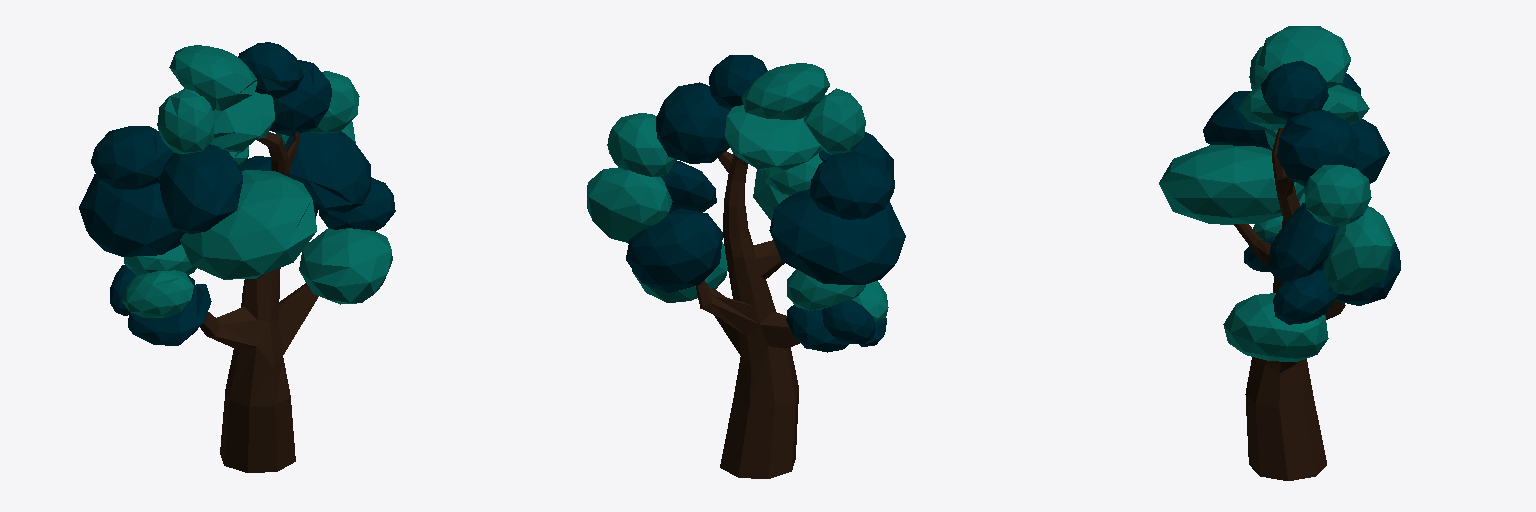
File: Oak_Tree.obj
3 views of the same model, side by side, from view 1: azimuth 30°, elevation 25°; view 2: azimuth 150°, elevation 25°; view 3: azimuth 270°, elevation 25° (orthographic).
Visible parts, largest first — view 1: Oak_Cylinder.004; view 2: Oak_Cylinder.004; view 3: Oak_Cylinder.004.
Boxes of the visible parts, x1,y1,x2,y2 form: Oak_Cylinder.004: [79, 42, 395, 472]; Oak_Cylinder.004: [587, 55, 905, 478]; Oak_Cylinder.004: [1159, 26, 1400, 480].
Bounding box in the file's own units: 3.96 × 5.31 × 2.84.